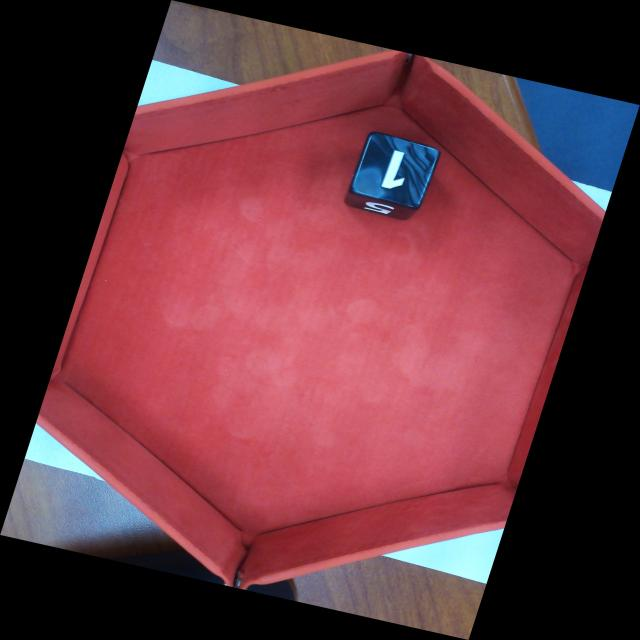dice: (351, 131, 440, 208)
